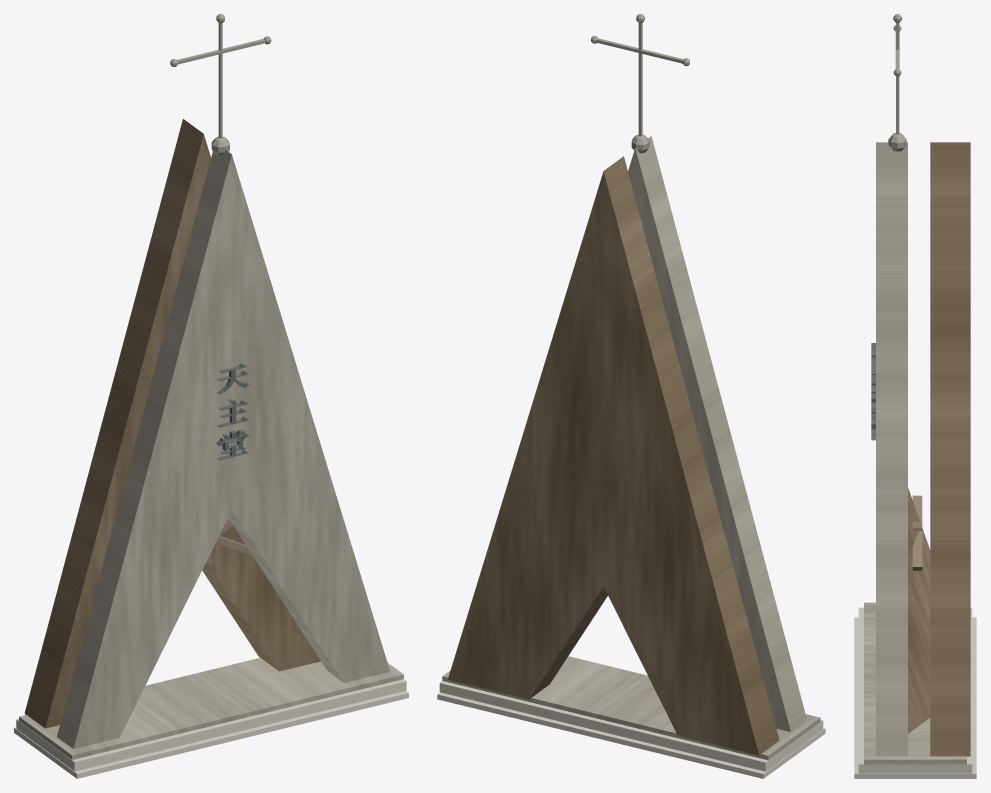
The model's file is gongbaoqiao-perforated-triangular-steeple-far.glb.
The picture shows the model from 3 angles, left to right: view 1: azimuth 30°, elevation 25°; view 2: azimuth 150°, elevation 25°; view 3: azimuth 270°, elevation 25°; orthographic projection. The views are drawn at different scales.
Visible parts, largest first — view 1: 嘉定耶稣圣心堂尖塔透空三角与天主堂竖题; view 2: 嘉定耶稣圣心堂尖塔透空三角与天主堂竖题; view 3: 嘉定耶稣圣心堂尖塔透空三角与天主堂竖题.
Boxes of the visible parts, x1,y1,x2,y2 form: 嘉定耶稣圣心堂尖塔透空三角与天主堂竖题: [14, 14, 408, 778]; 嘉定耶稣圣心堂尖塔透空三角与天主堂竖题: [437, 14, 825, 778]; 嘉定耶稣圣心堂尖塔透空三角与天主堂竖题: [854, 14, 976, 778].
Size of the model in its own units: 2.49 by 5.08 by 0.82.
Materials: 6 (2 with a texture image).
